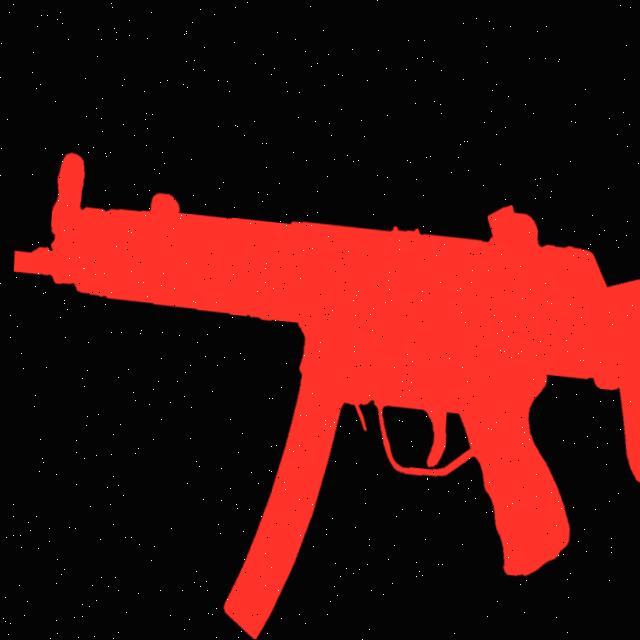firearm: (4, 141, 640, 640)
